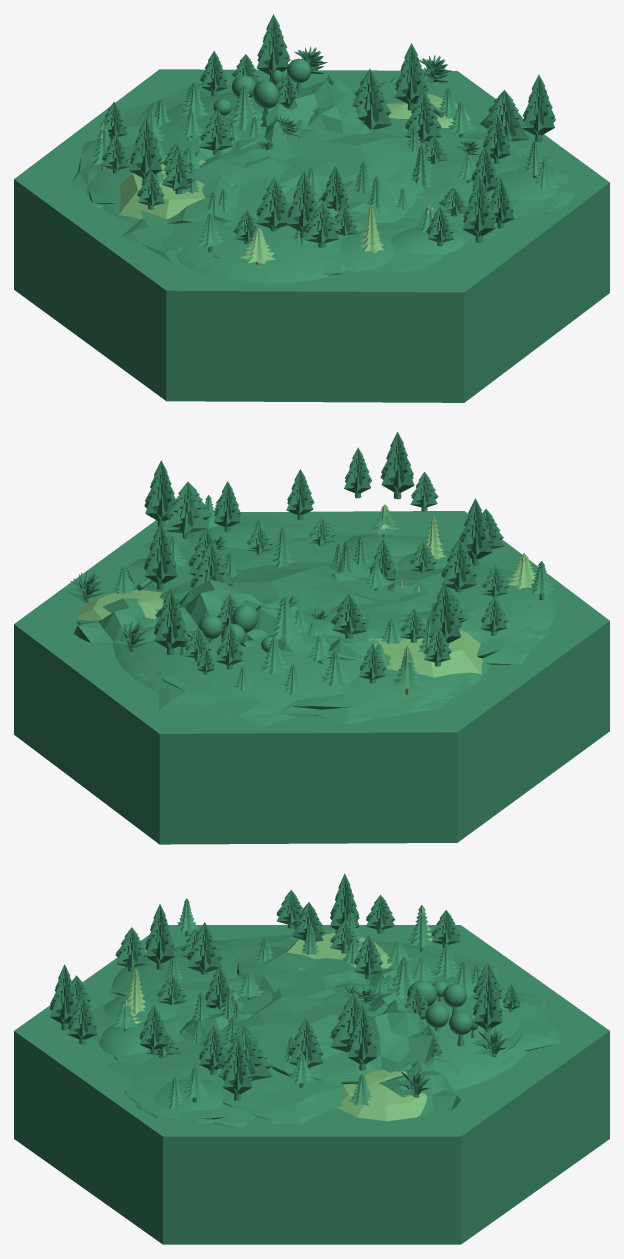
Rendered from forest_1.glb.
3 renders of one model, top to bottom at view 1: azimuth 30°, elevation 25°; view 2: azimuth 150°, elevation 25°; view 3: azimuth 270°, elevation 25°, orthographic. The views are drawn at different scales.
Parts seen in each view (by area): view 1: Mesh_Mesh_head_geo.001_lambert2SG.001; view 2: Mesh_Mesh_head_geo.001_lambert2SG.001; view 3: Mesh_Mesh_head_geo.001_lambert2SG.001.
Boxes of the visible parts, <box> form: Mesh_Mesh_head_geo.001_lambert2SG.001: <box>14,14,609,402</box>; Mesh_Mesh_head_geo.001_lambert2SG.001: <box>14,432,609,844</box>; Mesh_Mesh_head_geo.001_lambert2SG.001: <box>14,873,609,1244</box>.
Bounding box in the file's own units: 84 × 36 × 100.
